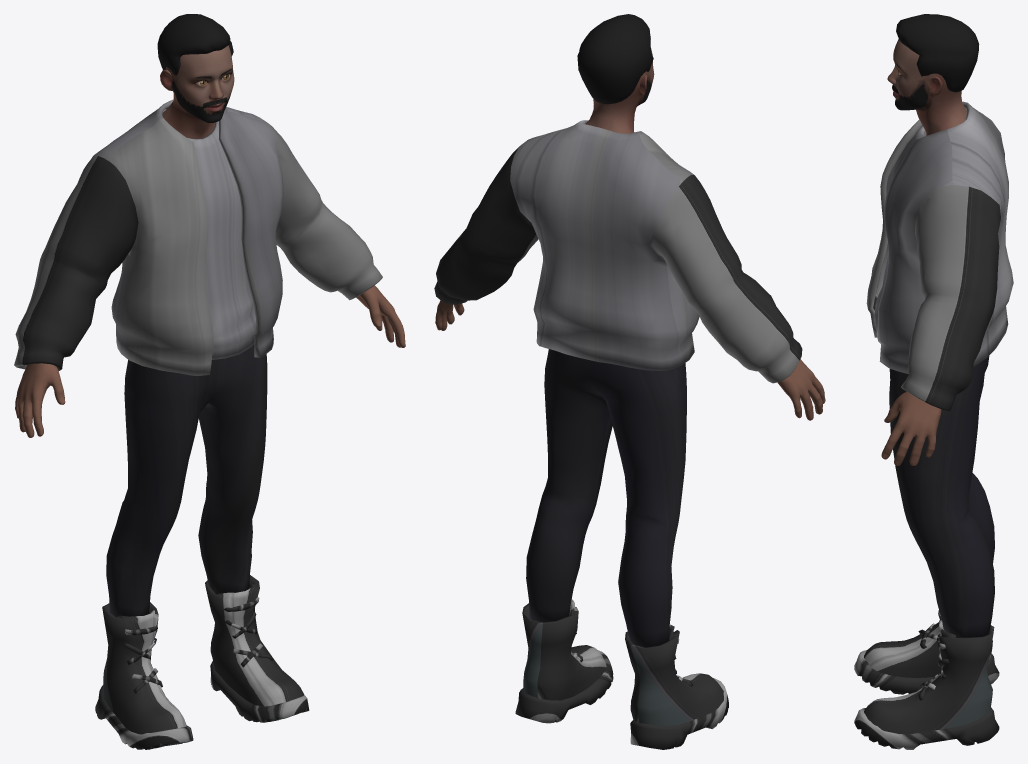
Rendered from developer.fbx.
3 views of the same model, side by side, from view 1: azimuth 30°, elevation 25°; view 2: azimuth 150°, elevation 25°; view 3: azimuth 270°, elevation 25° (orthographic).
Visible parts, largest first — view 1: Wolf3D_Outfit_Top, Wolf3D_Outfit_Bottom, Wolf3D_Outfit_Footwear, Wolf3D_Head, Wolf3D_Body, Wolf3D_Hair; view 2: Wolf3D_Outfit_Top, Wolf3D_Outfit_Bottom, Wolf3D_Outfit_Footwear, Wolf3D_Hair, Wolf3D_Body, Wolf3D_Head; view 3: Wolf3D_Outfit_Top, Wolf3D_Outfit_Bottom, Wolf3D_Outfit_Footwear, Wolf3D_Hair, Wolf3D_Head, Wolf3D_Body.
Boxes of the visible parts, box(x1,y1,x2,y2) form: Wolf3D_Outfit_Top: box(14, 99, 382, 375); Wolf3D_Outfit_Bottom: box(106, 344, 267, 617); Wolf3D_Outfit_Footwear: box(95, 575, 309, 749); Wolf3D_Head: box(160, 45, 234, 138); Wolf3D_Body: box(15, 285, 405, 437); Wolf3D_Hair: box(157, 14, 233, 75); Wolf3D_Outfit_Top: box(434, 120, 802, 383); Wolf3D_Outfit_Bottom: box(526, 349, 686, 647); Wolf3D_Outfit_Footwear: box(515, 599, 728, 749); Wolf3D_Hair: box(577, 14, 653, 104); Wolf3D_Body: box(435, 300, 825, 420); Wolf3D_Head: box(585, 48, 654, 133); Wolf3D_Outfit_Top: box(866, 101, 1013, 411); Wolf3D_Outfit_Bottom: box(889, 356, 994, 637); Wolf3D_Outfit_Footwear: box(854, 610, 999, 749); Wolf3D_Hair: box(896, 14, 979, 92); Wolf3D_Head: box(887, 39, 967, 135); Wolf3D_Body: box(881, 391, 941, 465).
Bounding box in the file's own units: 1.06 × 1.88 × 0.3892.
8 materials, 8 textured.
